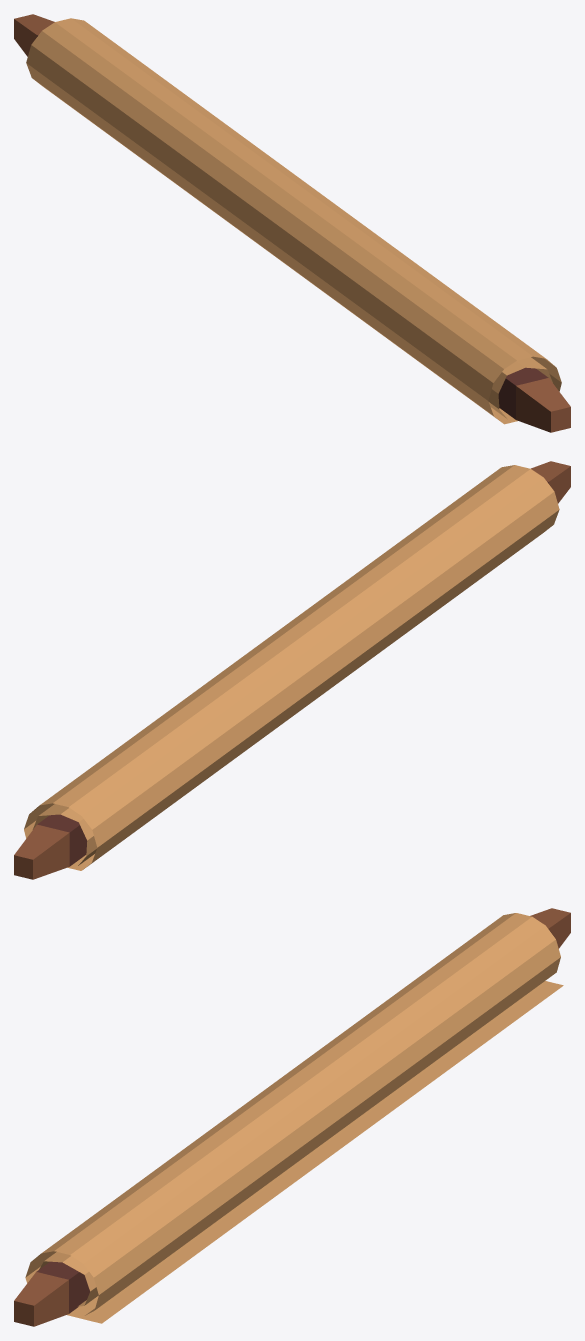
The model's file is scroll_handle_roll_broun.fbx.
3 renders of one model, top to bottom at view 1: azimuth 30°, elevation 25°; view 2: azimuth 150°, elevation 25°; view 3: azimuth 330°, elevation 25°, orthographic.
Parts seen in each view (by area): view 1: Cube.006; view 2: Cube.006; view 3: Cube.006.
Boxes of the visible parts, x1,y1,x2,y2 form: Cube.006: (14,14,570,432); Cube.006: (14,461,570,879); Cube.006: (14,908,570,1326).
Bounding box in the file's own units: 14.44 × 11 × 176.
